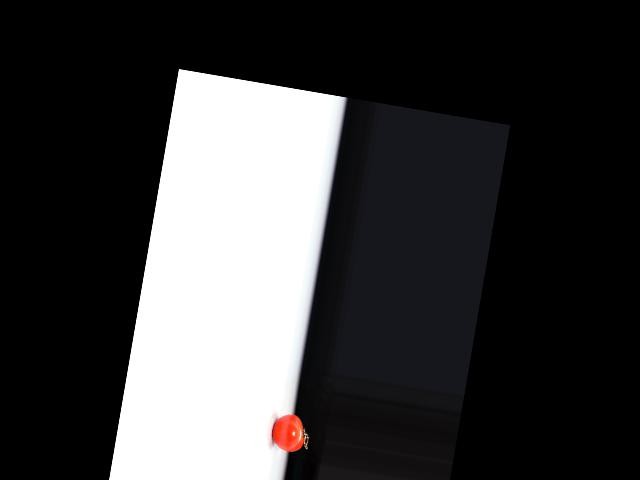tomato: (269, 411, 308, 453)
